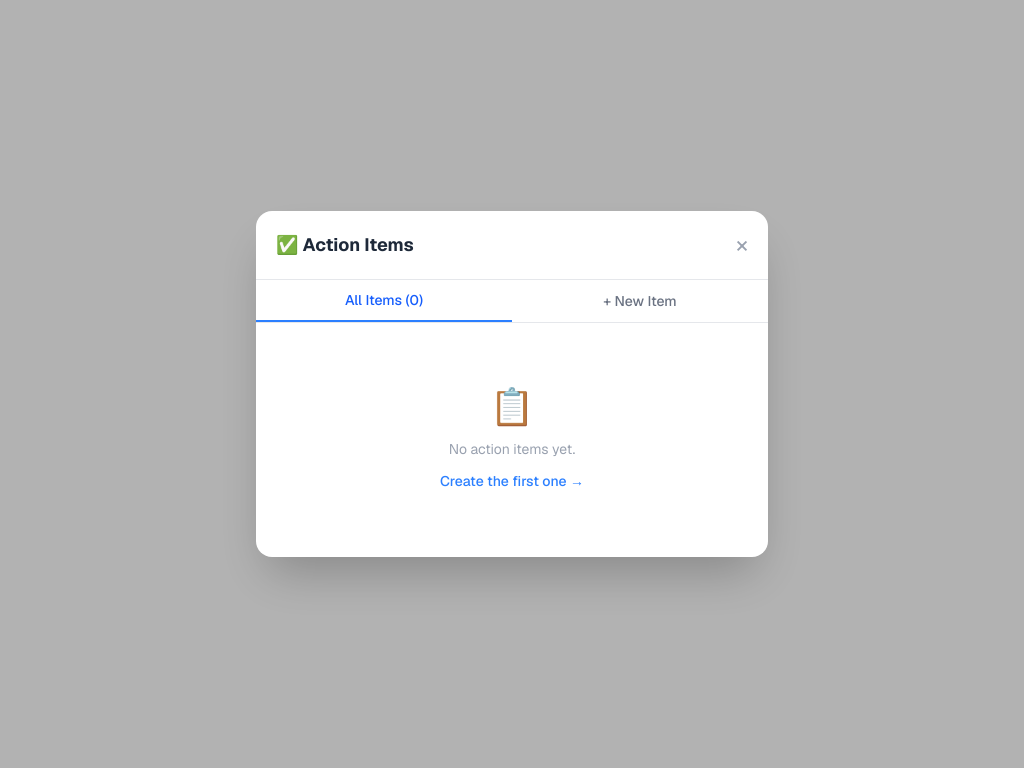
it: ActionItemModal — tab switching › switches from list to create when "+ New Item" tab is clicked
The width and height of the screenshot is (1024, 768).
Click the button "+ New Item" at x=640, y=301, box [512,280,768,322]
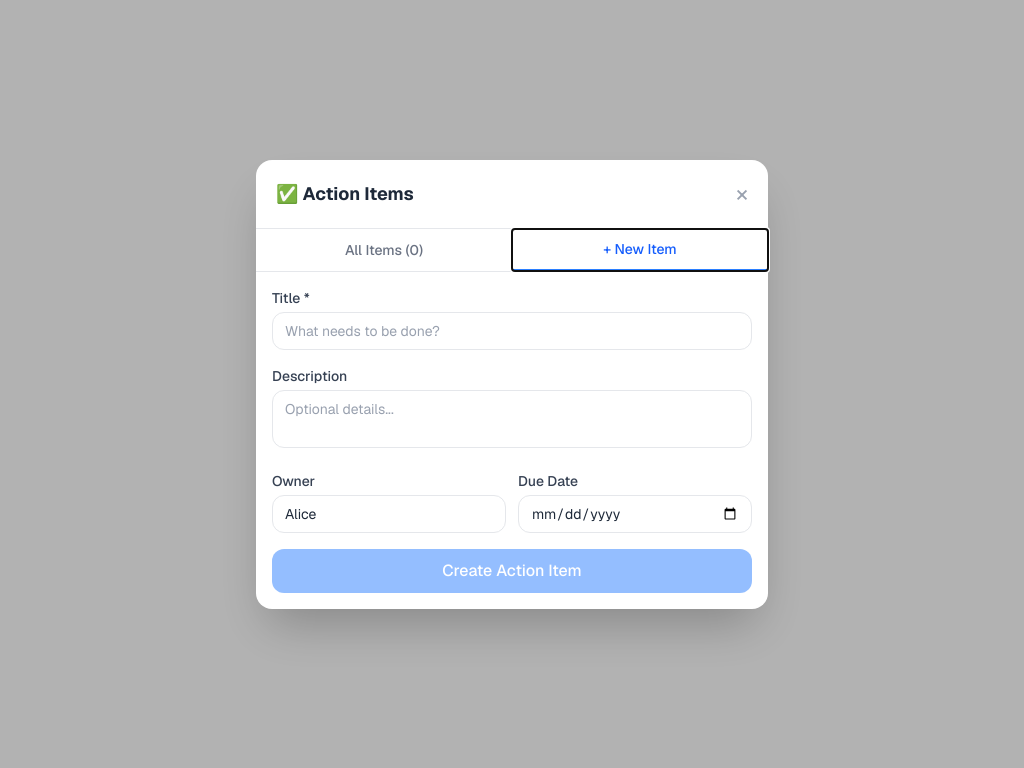
Now the field with placeholder "What needs to be done?" is shown, box [272,312,752,350]
